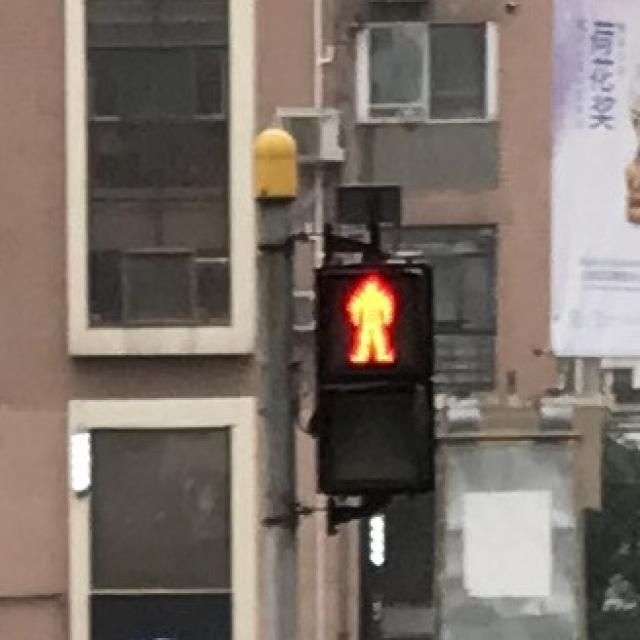red-crossing: (318, 268, 418, 370)
